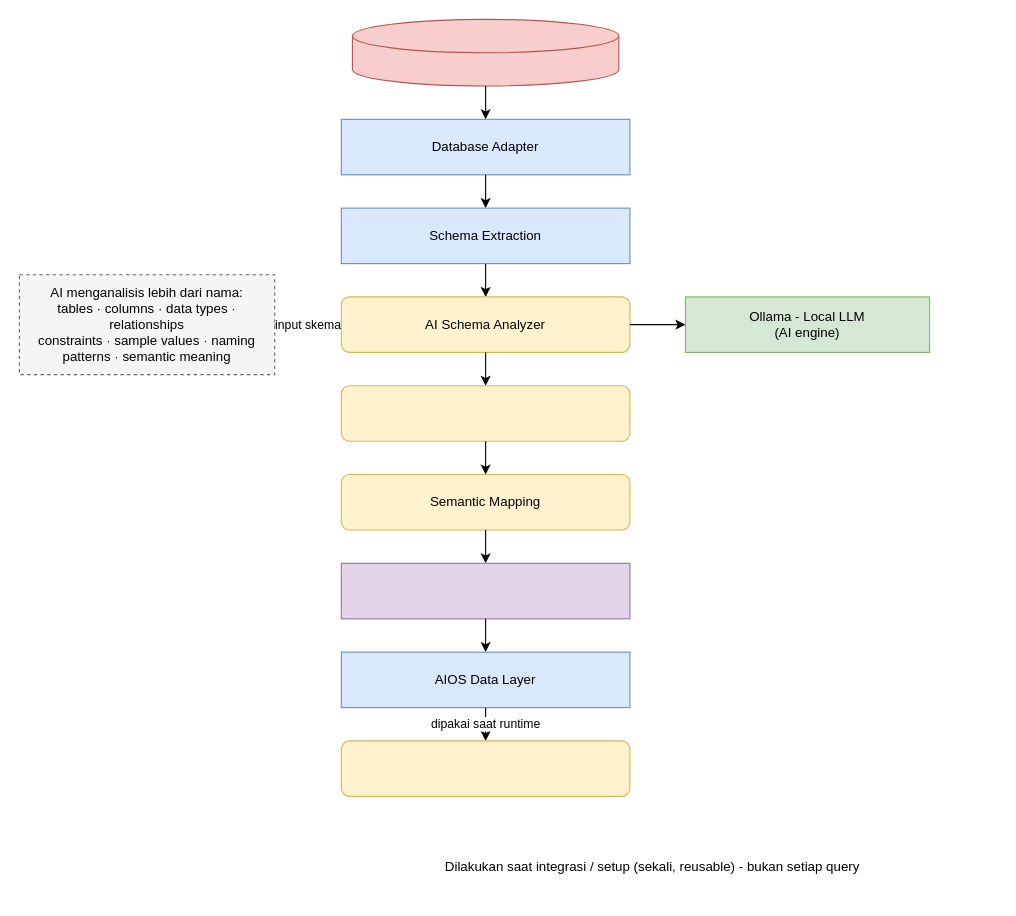
Image size: 1016x916. Some labels were removed from this diagram. The box of each missing label's shape, as (x1, y1, x2, y2) in pixels:
Canonical Data Model: (340, 562, 630, 619)
Client Database (tidak diubah): (351, 18, 619, 86)
Schema Understanding: (340, 385, 630, 441)
Workers (Inventory / Document / Analytics): (340, 740, 630, 796)
